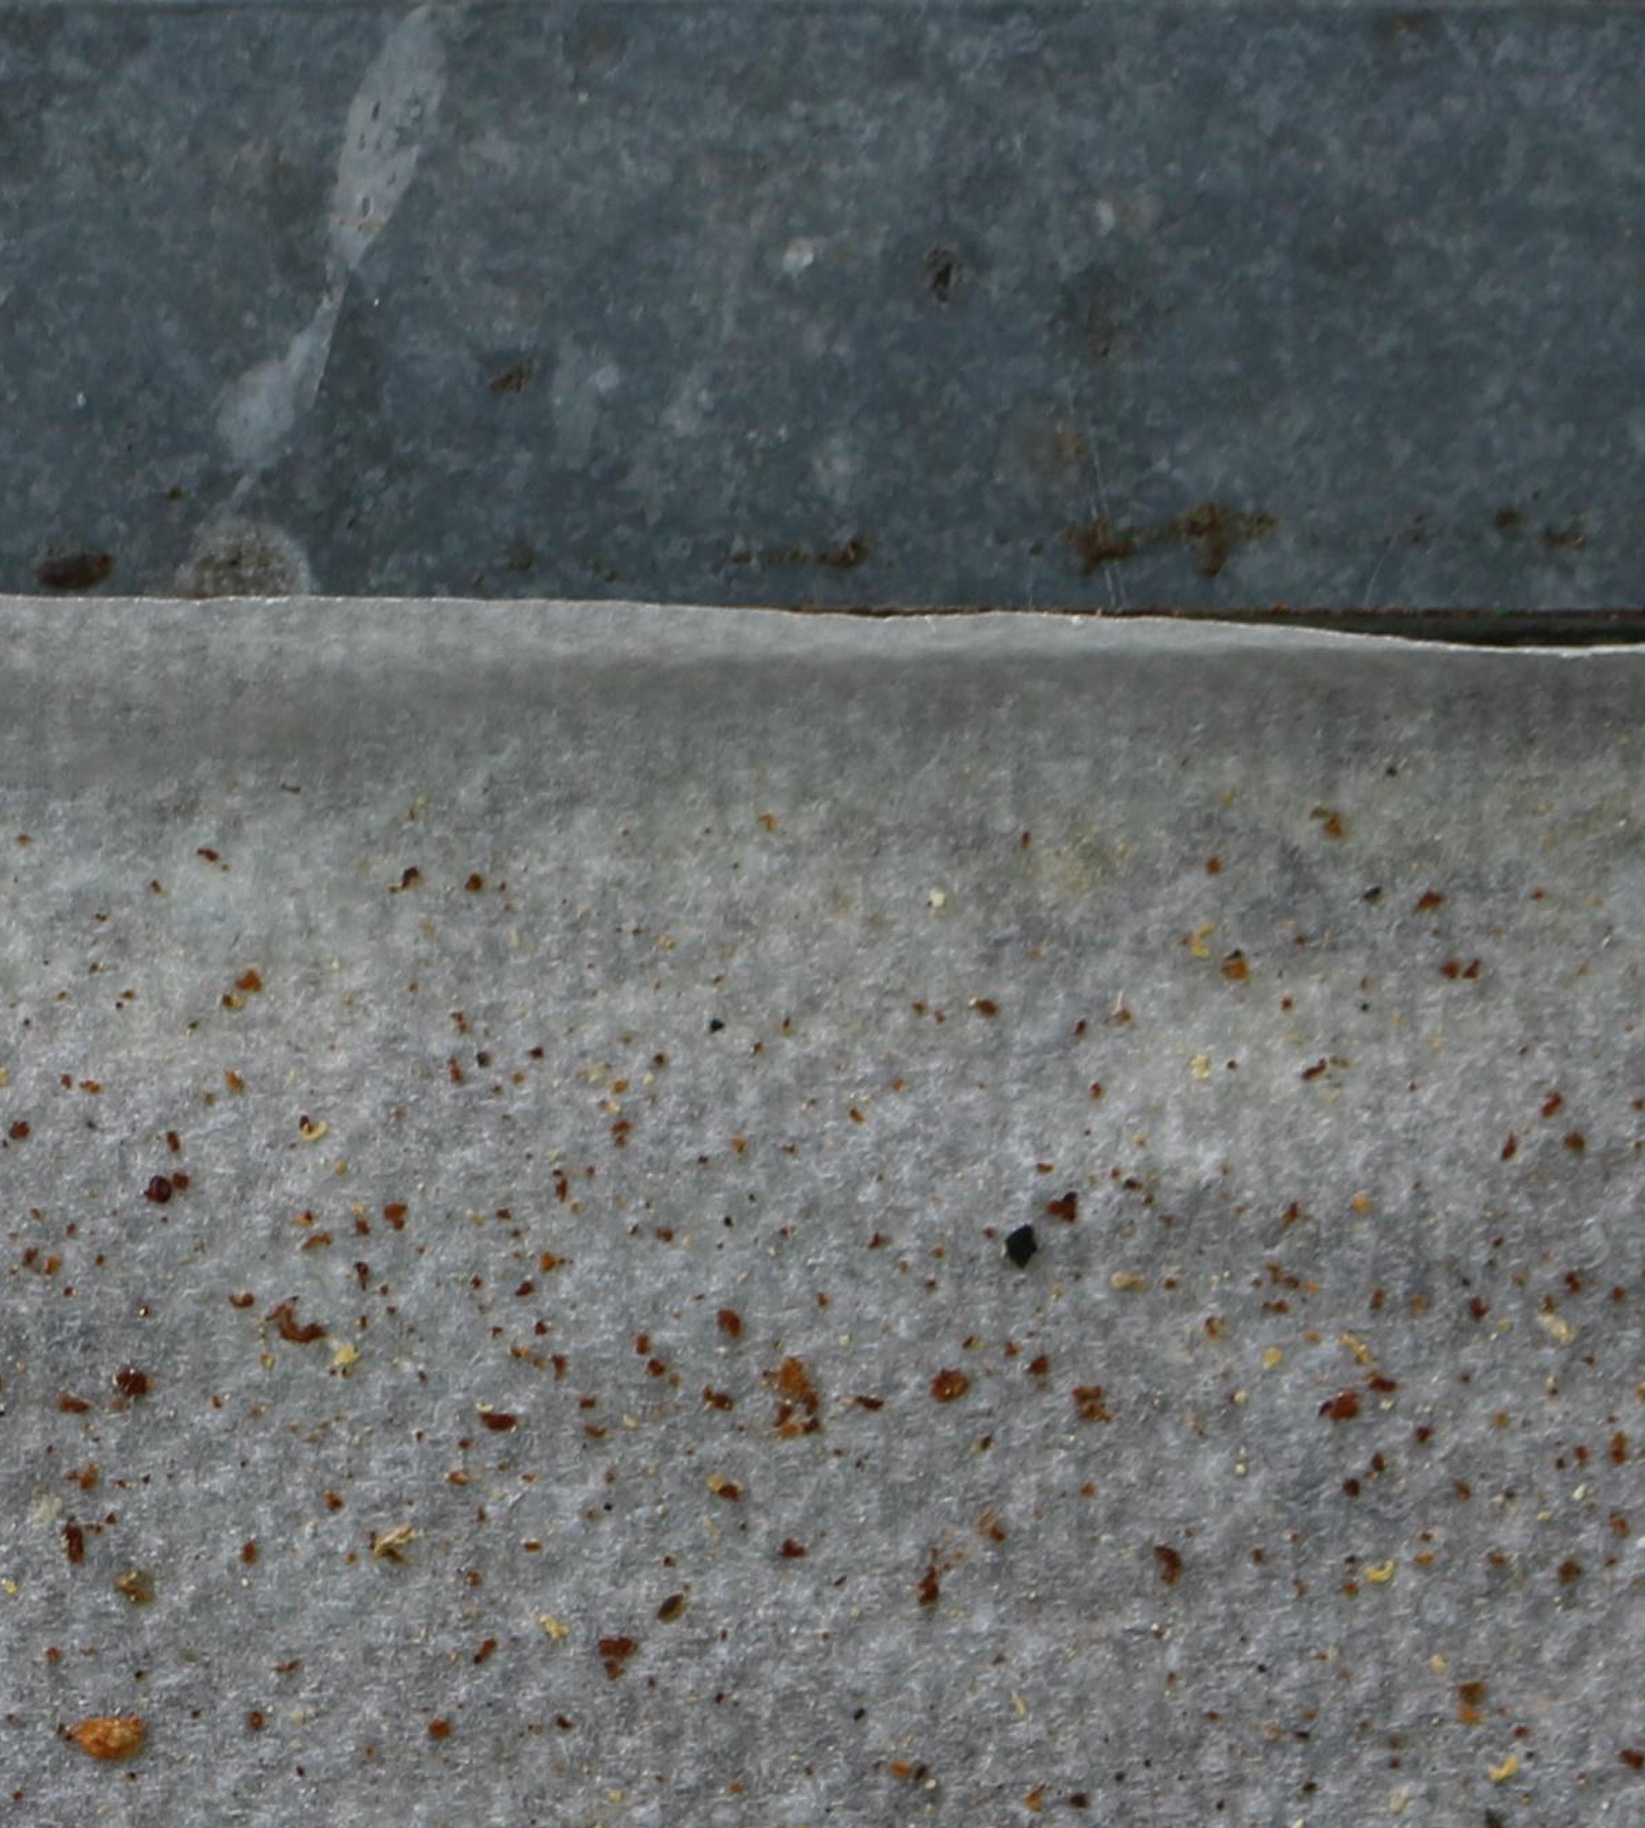Varroa: (151, 1178, 173, 1202)
